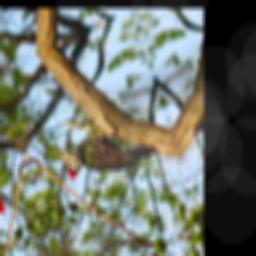Woodpecker: (51, 98, 163, 202)
